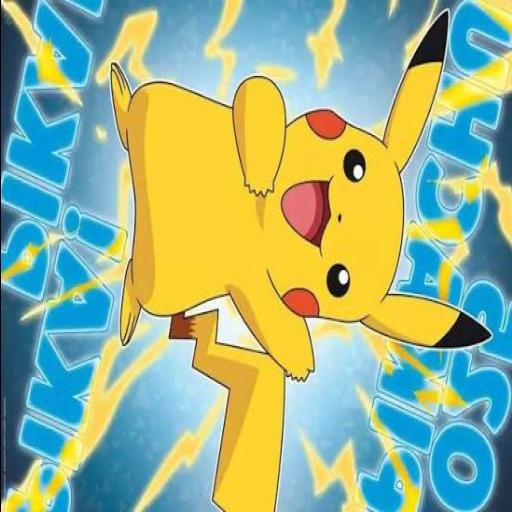Pikachu: (110, 8, 492, 512)
